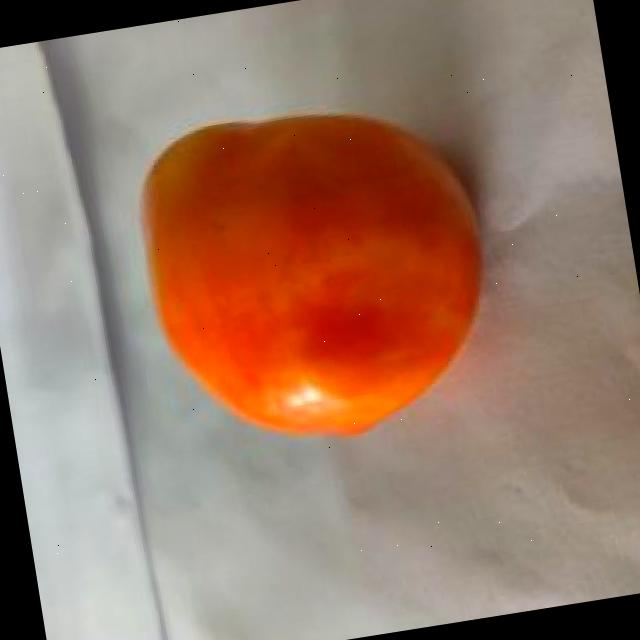tomato: (125, 84, 508, 460)
